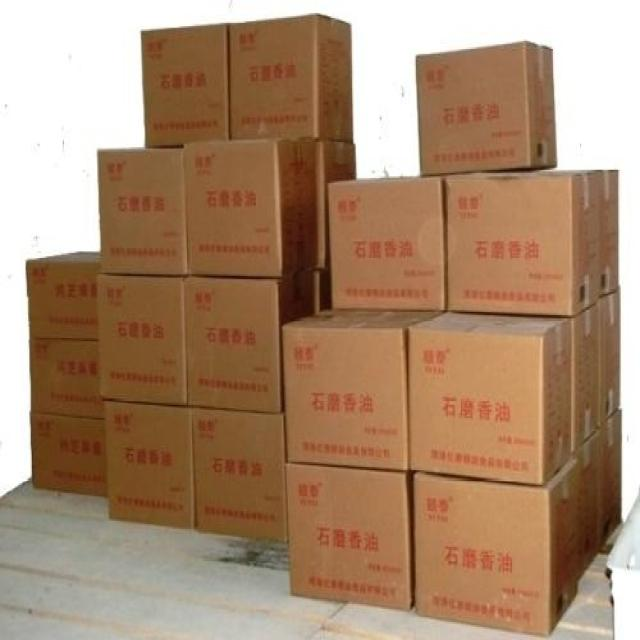box: (415, 457, 578, 636), (407, 312, 572, 486), (281, 310, 447, 470), (445, 167, 603, 317), (284, 463, 415, 610), (416, 41, 558, 172), (183, 139, 316, 278), (186, 273, 314, 414), (328, 176, 446, 313), (229, 14, 354, 143), (192, 407, 288, 542), (103, 402, 195, 529), (98, 273, 186, 405), (99, 147, 188, 275), (141, 23, 230, 147), (26, 251, 101, 340), (31, 411, 108, 497), (30, 339, 104, 419), (315, 137, 355, 270), (574, 427, 603, 584), (571, 301, 600, 456), (599, 287, 621, 426), (600, 406, 621, 547), (601, 170, 619, 297), (313, 268, 333, 314)
